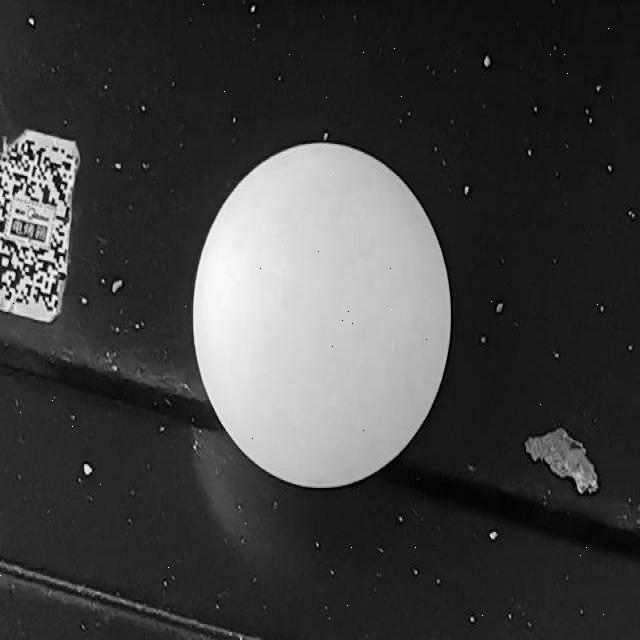ping-pong-ball: (192, 149, 448, 487)
